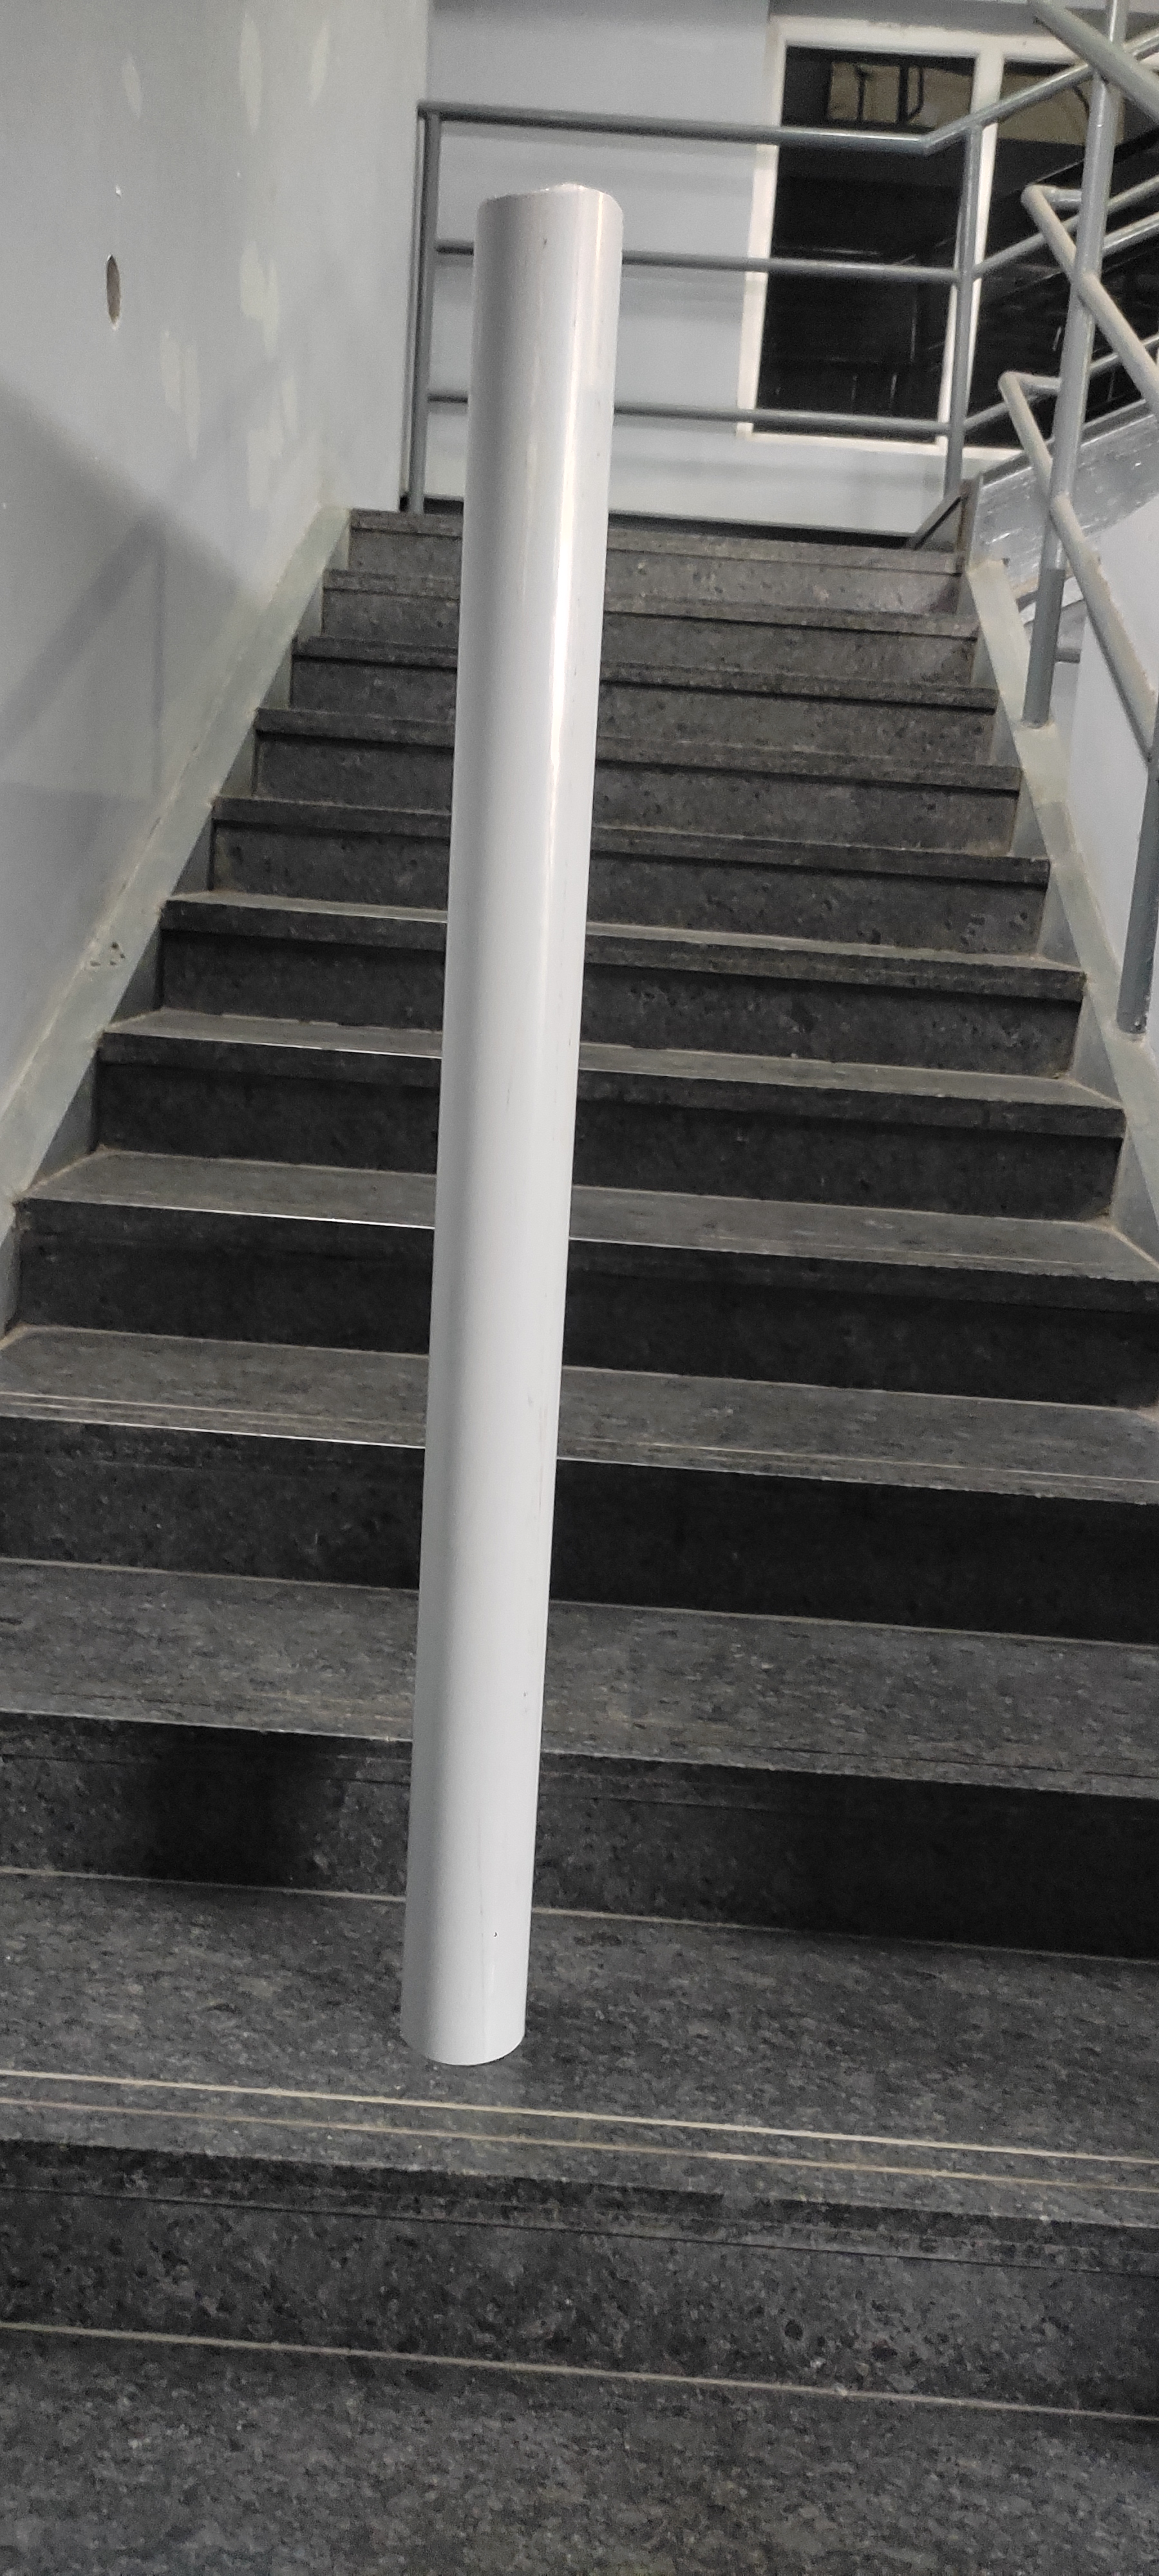pole: (368, 156, 635, 2083)
